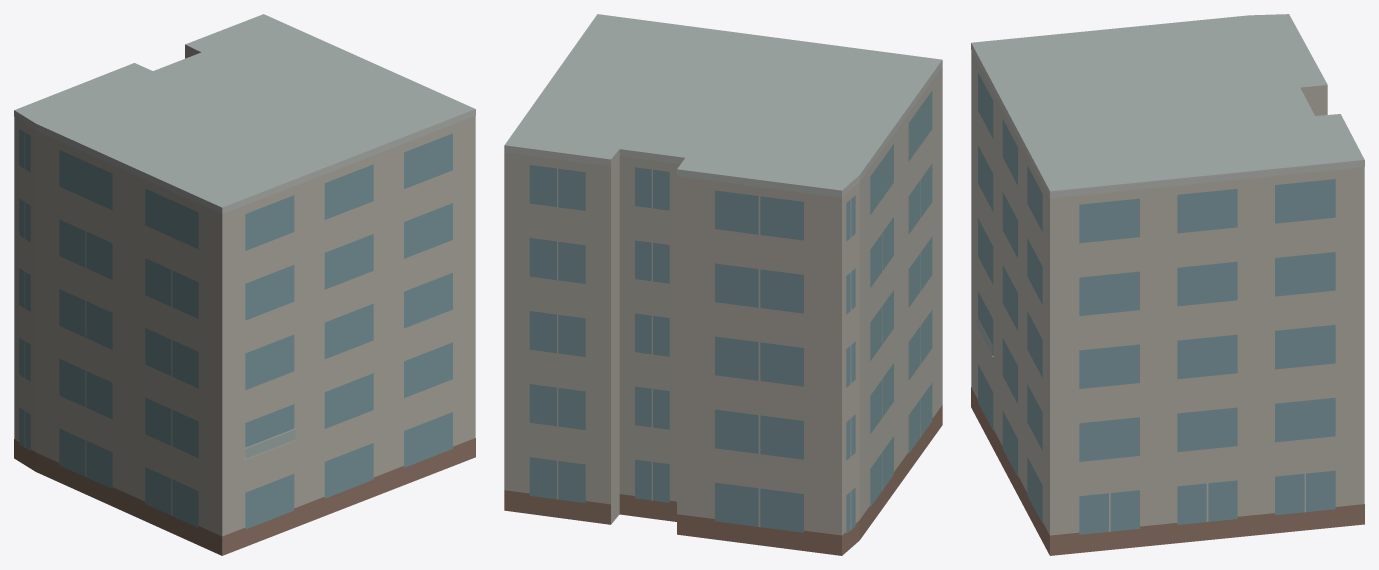
The model's file is survey-upis-32737691.glb.
The picture shows the model from 3 angles, left to right: view 1: azimuth 30°, elevation 25°; view 2: azimuth 150°, elevation 25°; view 3: azimuth 270°, elevation 25°; orthographic projection. The views are drawn at different scales.
Visible parts, largest first — view 1: survey-upis-32737691.tmp; view 2: survey-upis-32737691.tmp; view 3: survey-upis-32737691.tmp.
Part boxes in pixels (<box>): survey-upis-32737691.tmp: <box>14,14,475,555</box>; survey-upis-32737691.tmp: <box>504,14,942,555</box>; survey-upis-32737691.tmp: <box>971,14,1364,555</box>.
Bounding box in the file's own units: 13.37 × 12.8 × 12.54.
